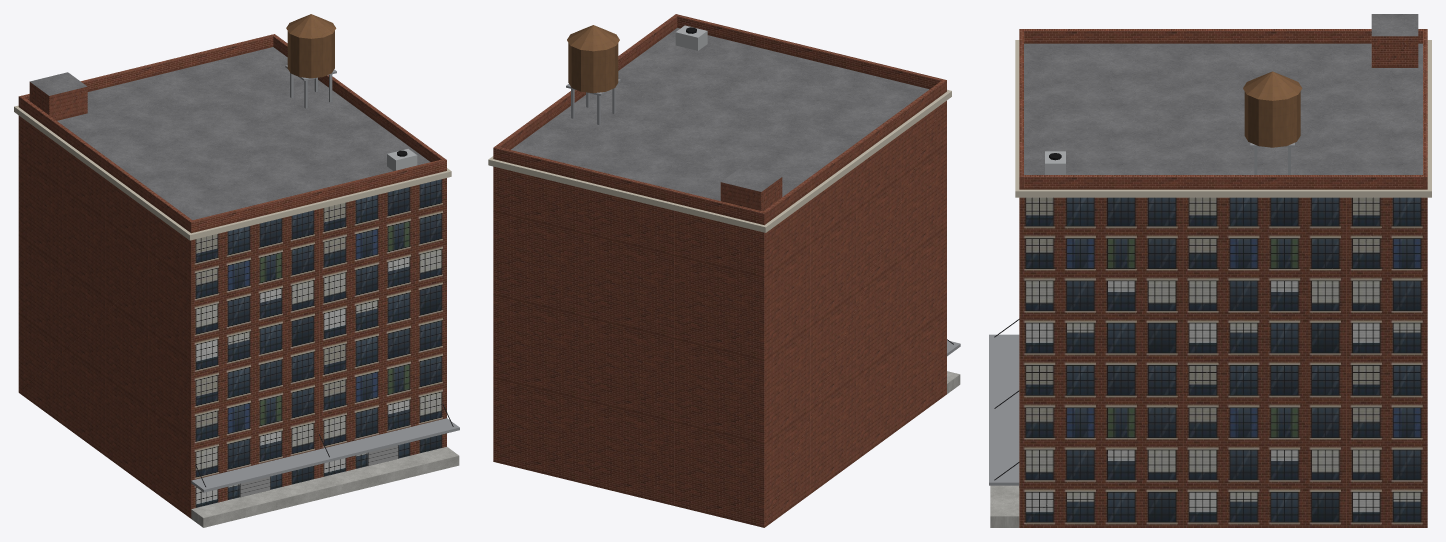
Rendered from 031_warehouse_brown.glb.
3 views of the same model, side by side, from view 1: azimuth 30°, elevation 25°; view 2: azimuth 150°, elevation 25°; view 3: azimuth 270°, elevation 25° (orthographic). The views are drawn at different scales.
Visible parts, largest first — view 1: 031_warehouse_brown; view 2: 031_warehouse_brown; view 3: 031_warehouse_brown.
Part boxes in pixels (x1,y1,x2,y2): 031_warehouse_brown: (14,14,459,527); 031_warehouse_brown: (488,14,960,527); 031_warehouse_brown: (989,14,1431,527).
Bounding box in the file's own units: 30.7 × 41.6 × 37.95.
11 materials, 6 textured.
